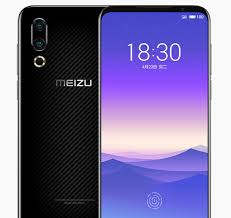meizu: (98, 4, 213, 218), (15, 3, 99, 218)
